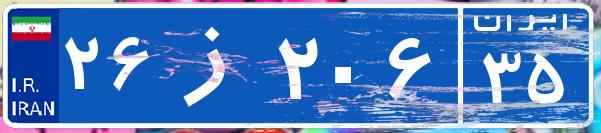0: (330, 28, 385, 110)
2: (273, 28, 330, 110), (57, 26, 110, 107)
3: (475, 38, 525, 113)
5: (525, 38, 570, 115)
6: (385, 28, 445, 110), (110, 28, 158, 105)
ز: (158, 15, 273, 115)
